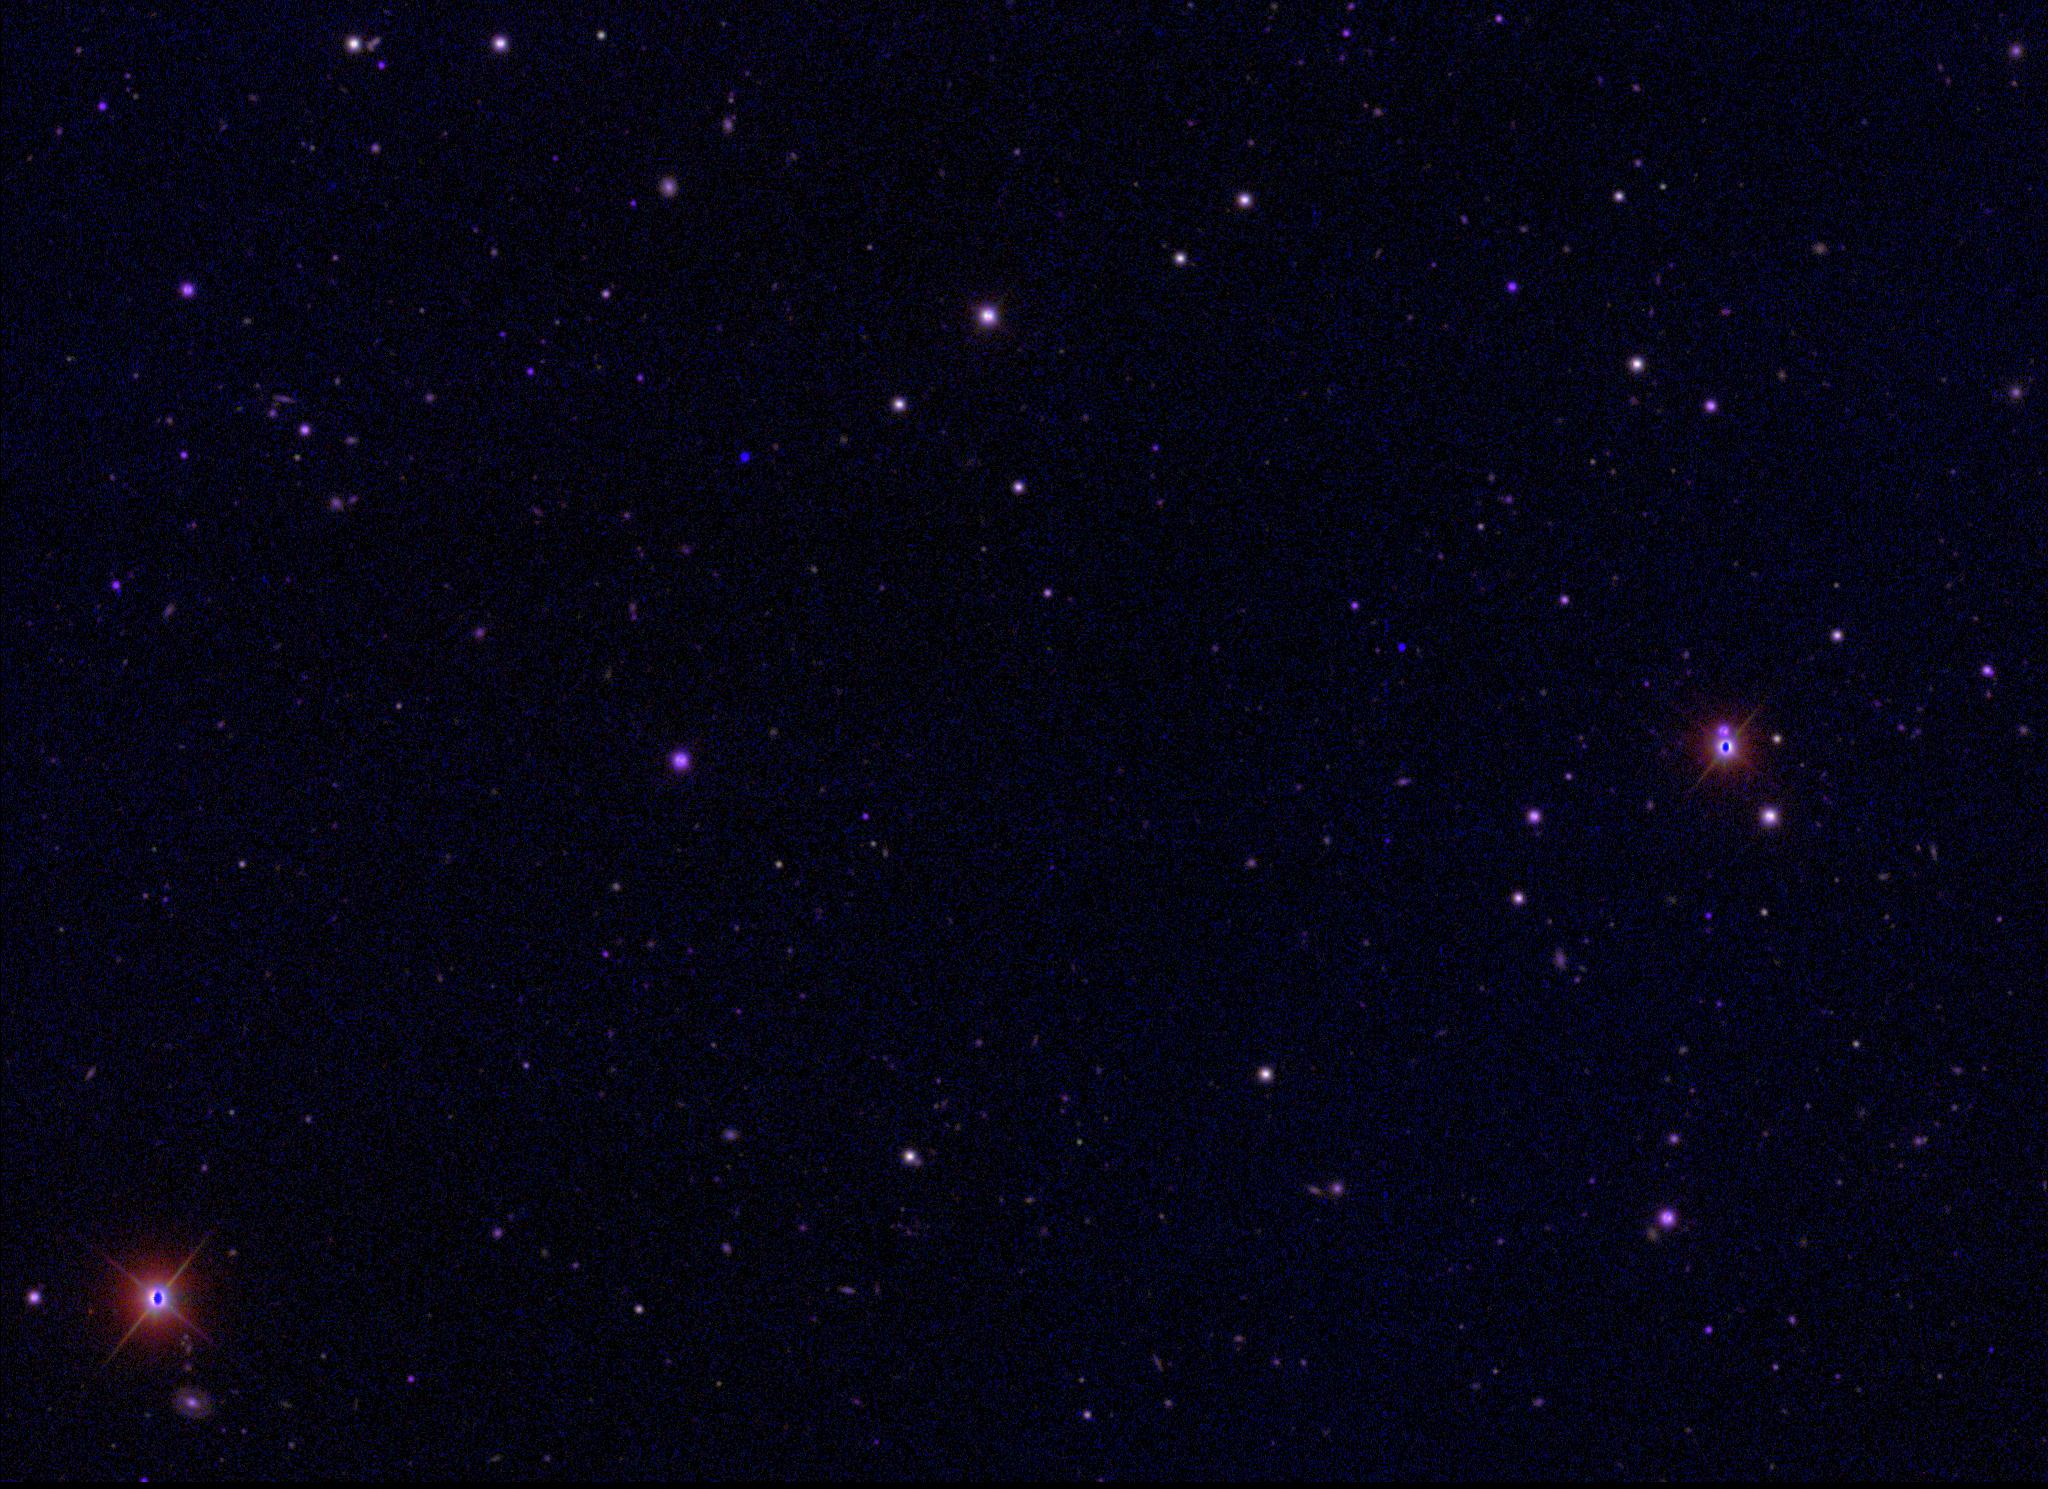L: (1393, 640, 1407, 654)
